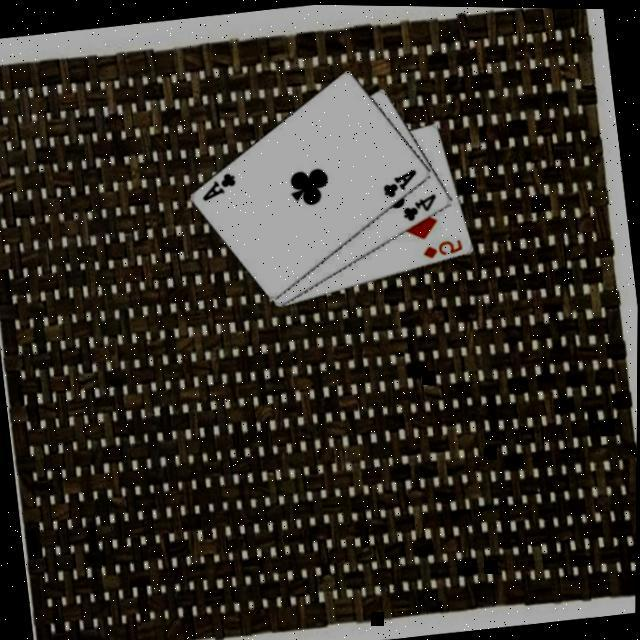4C: (400, 186, 442, 222)
5D: (420, 232, 466, 259)
AC: (198, 165, 241, 202), (379, 162, 422, 198)
